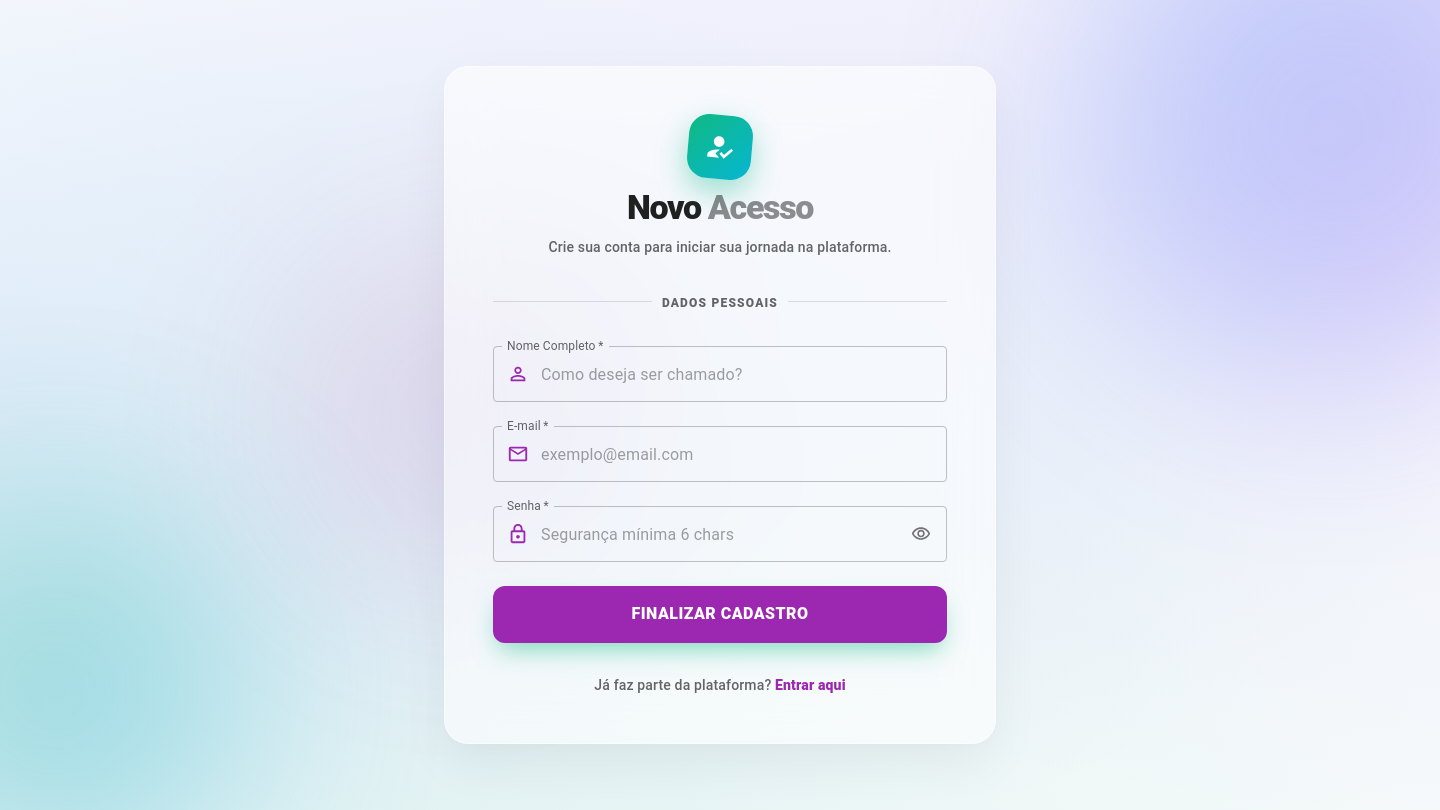
Test: RegisterForm › exibe mensagem de erro generica em falha desconhecida
The image size is (1440, 810).
Type "João" into the field labelled "Nome Completo *" at (744, 374), box [541, 346, 947, 402]
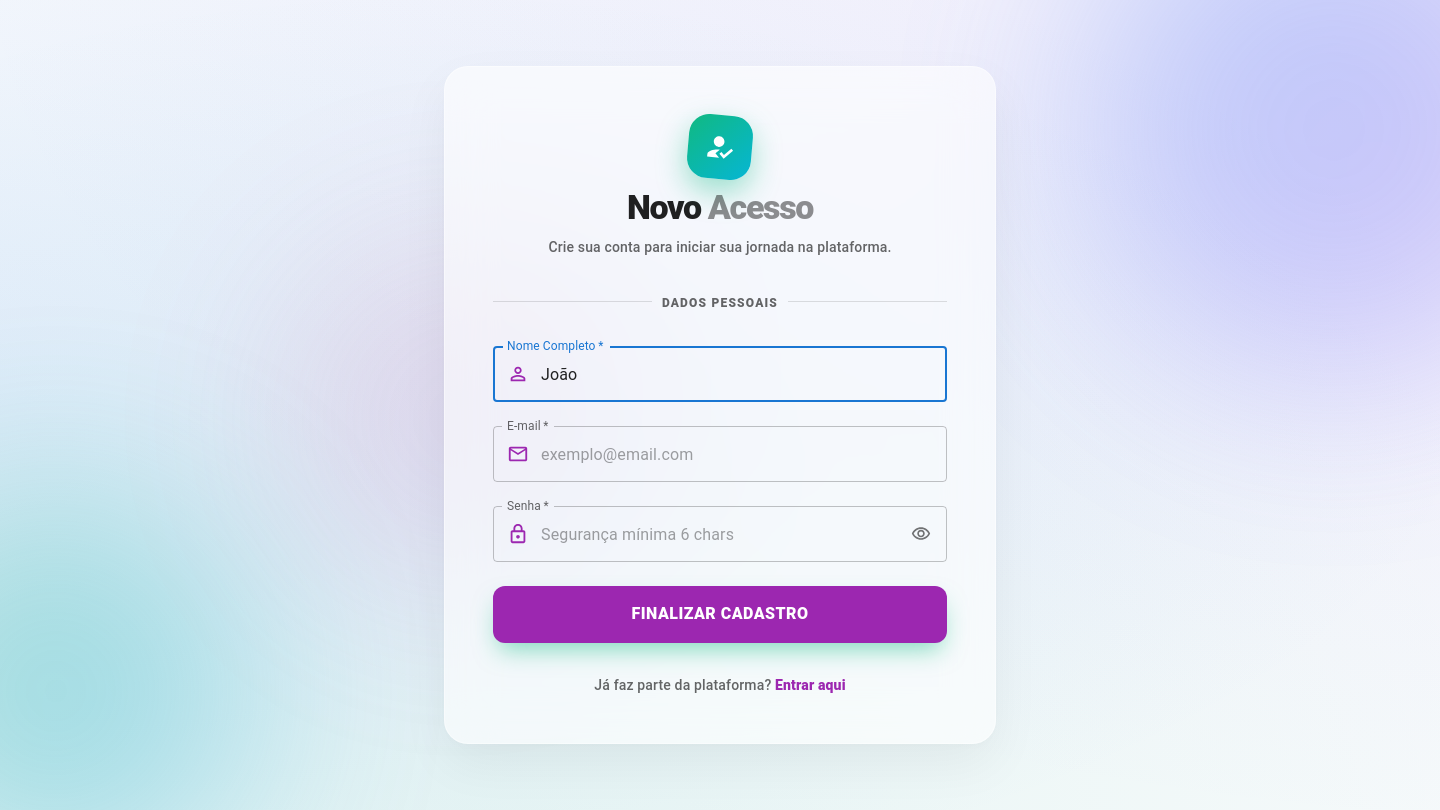
Type "joao@email.com" into the field labelled "E-mail *" at (744, 454), box [541, 426, 947, 482]
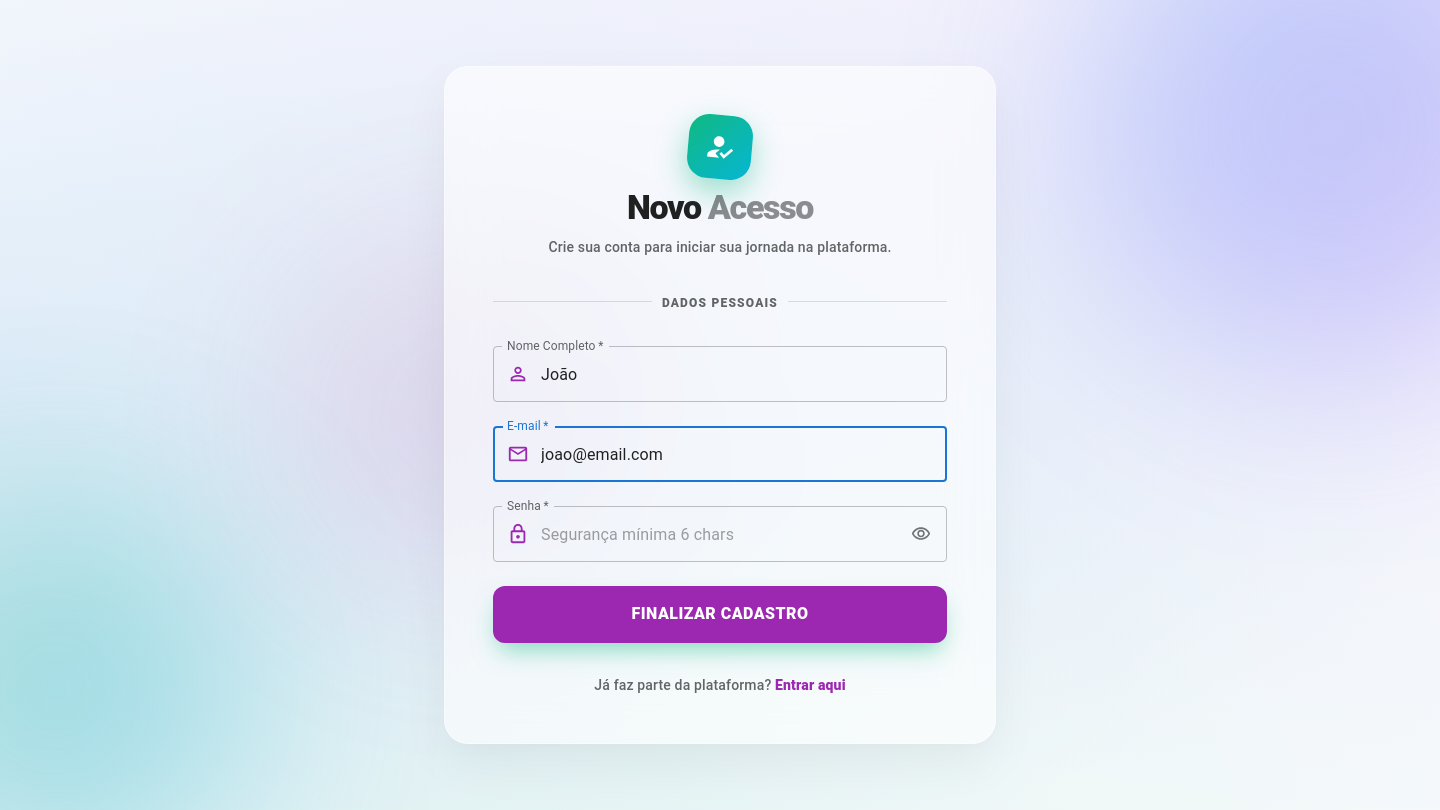
Type "senha123" into the password field labelled "Senha *" at (720, 534), box [541, 506, 898, 562]
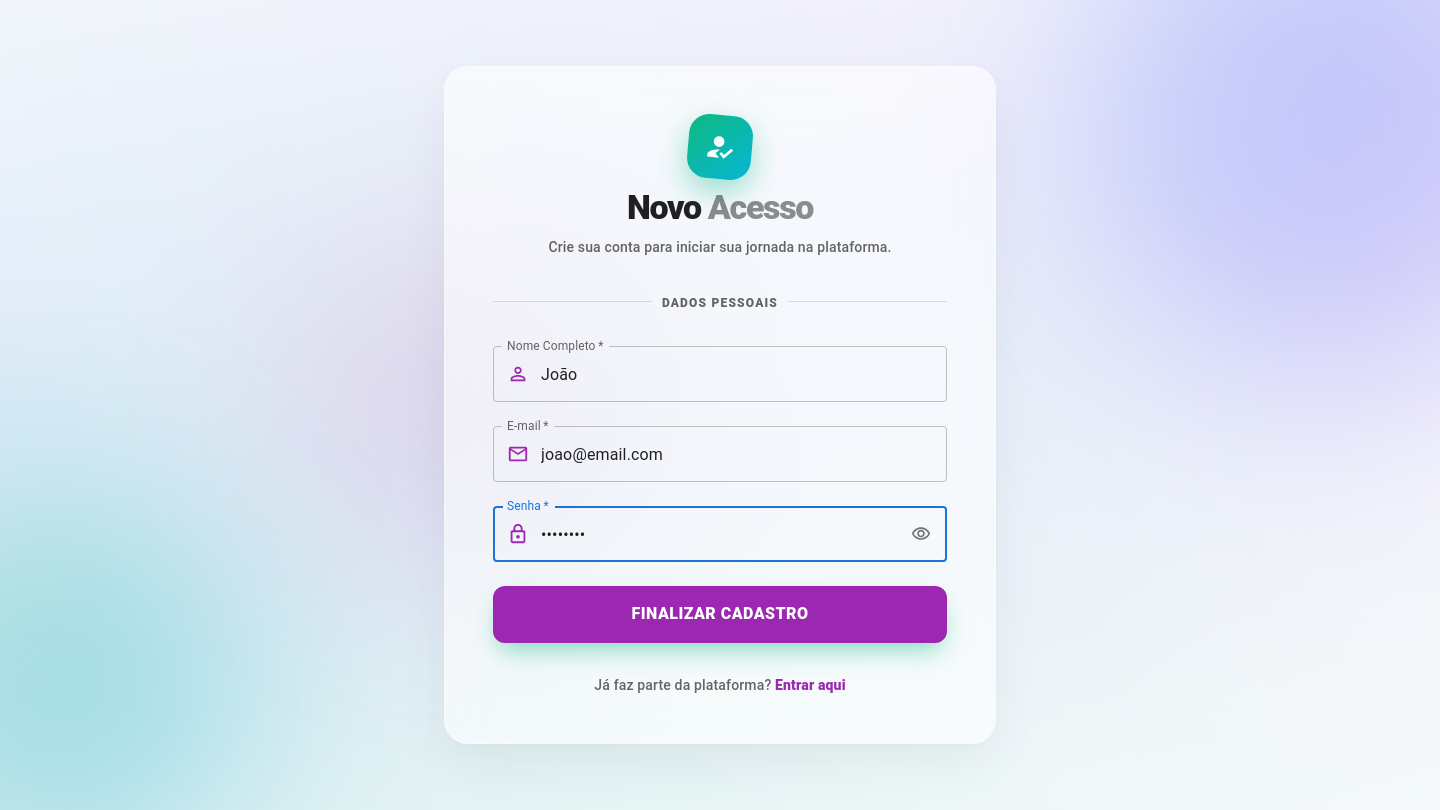
Click the button "Finalizar Cadastro" at (720, 614), box [493, 586, 947, 643]
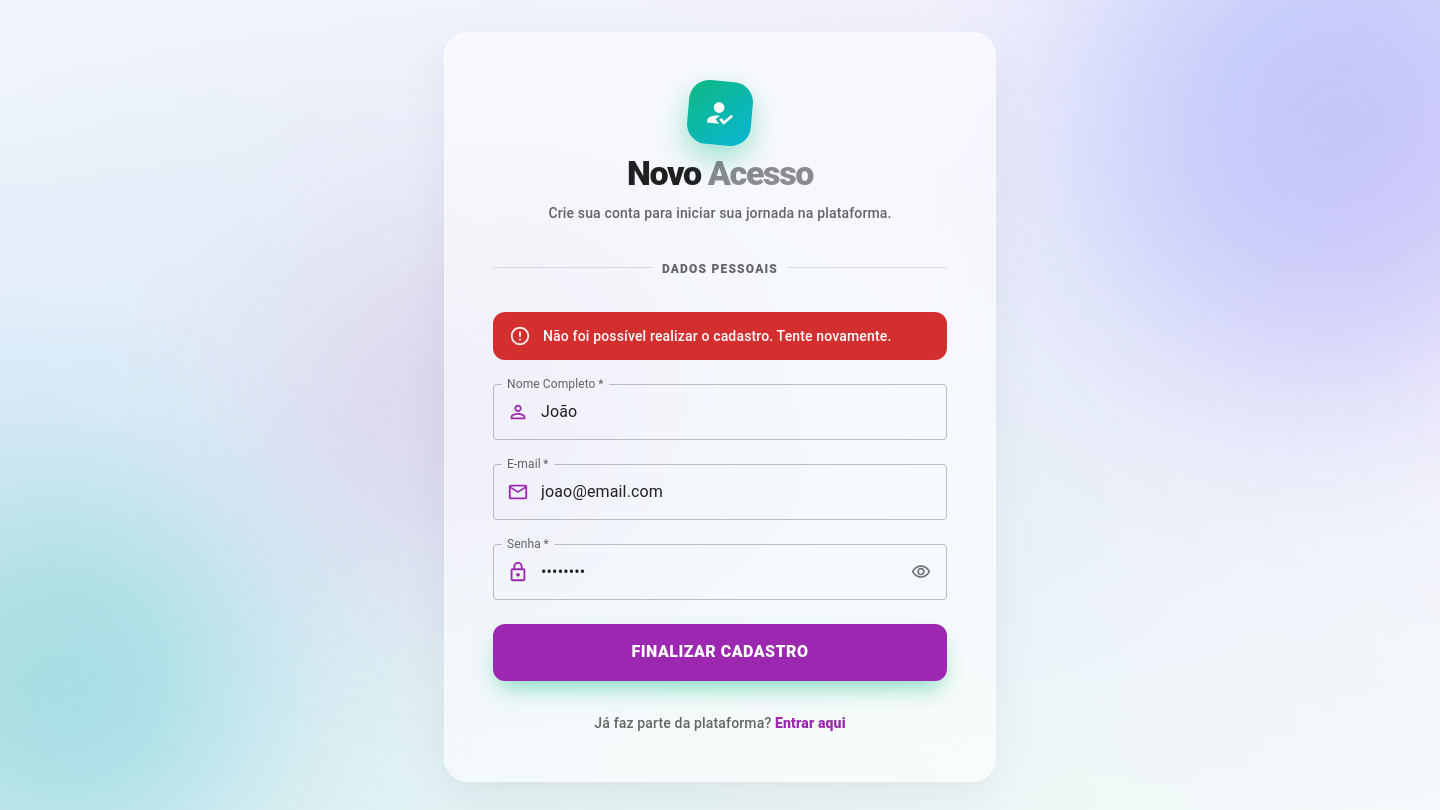
Expected: the text "Não foi possível realizar o cadastro. Tente novamente." is shown, [543, 328, 892, 344]
